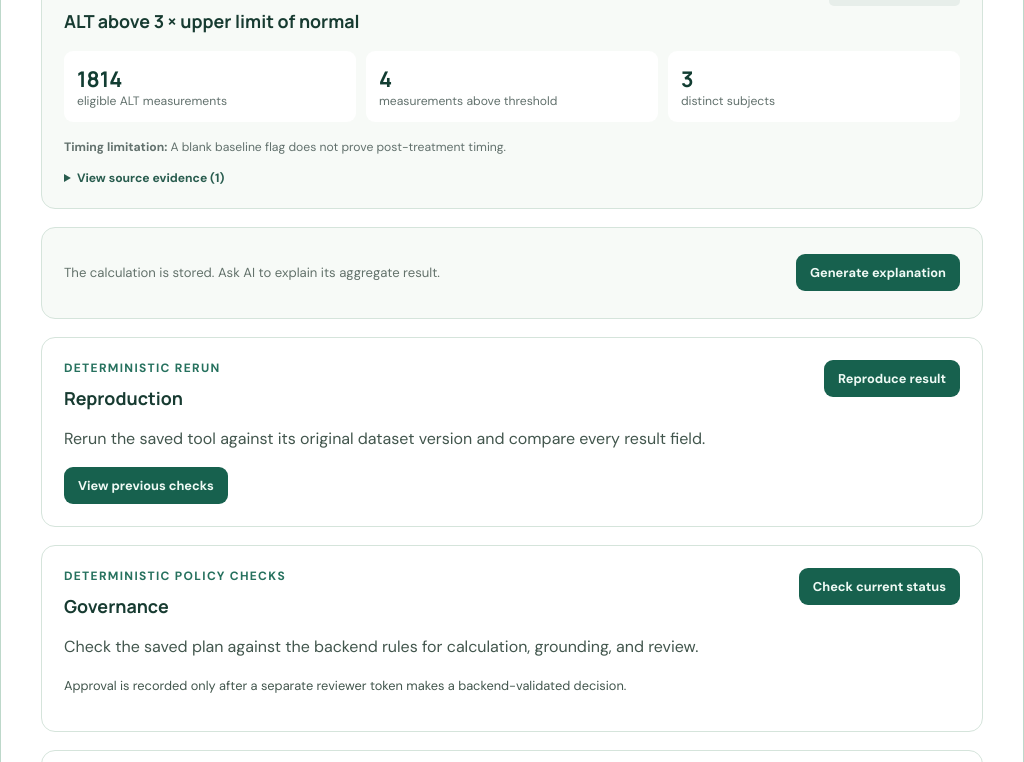
Test: AnalysisWorkspace › shows a field-by-field reproduction mismatch for an executed plan
(page scrolled)
Click the button "Reproduce result" at coordinates (892, 378), box [824,360,960,397]
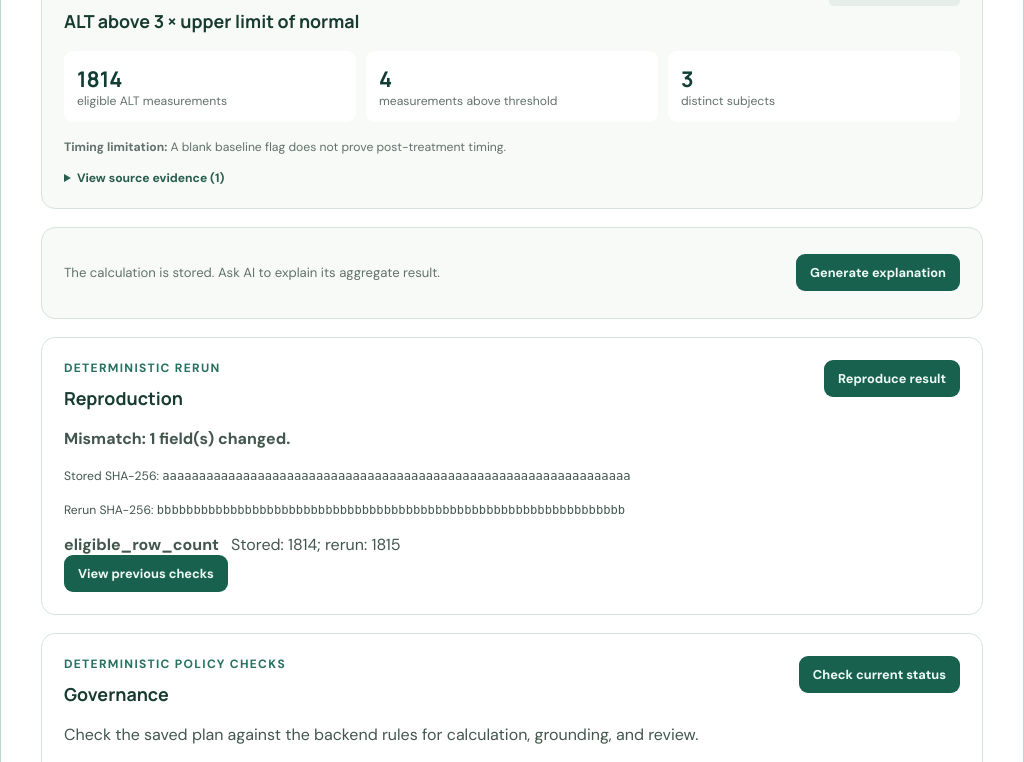
Check: the text "Mismatch: 1 field(s) changed." is shown, box [64,428,290,449]
Check: the text "eligible_row_count" is shown, box [64,534,219,555]
